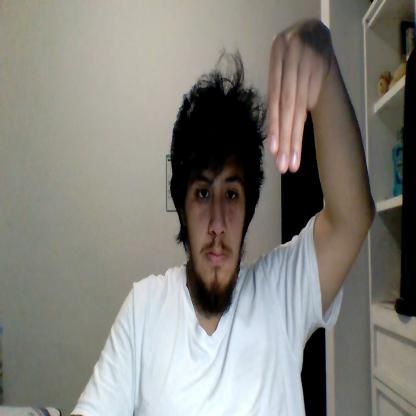M: (268, 14, 330, 174)
